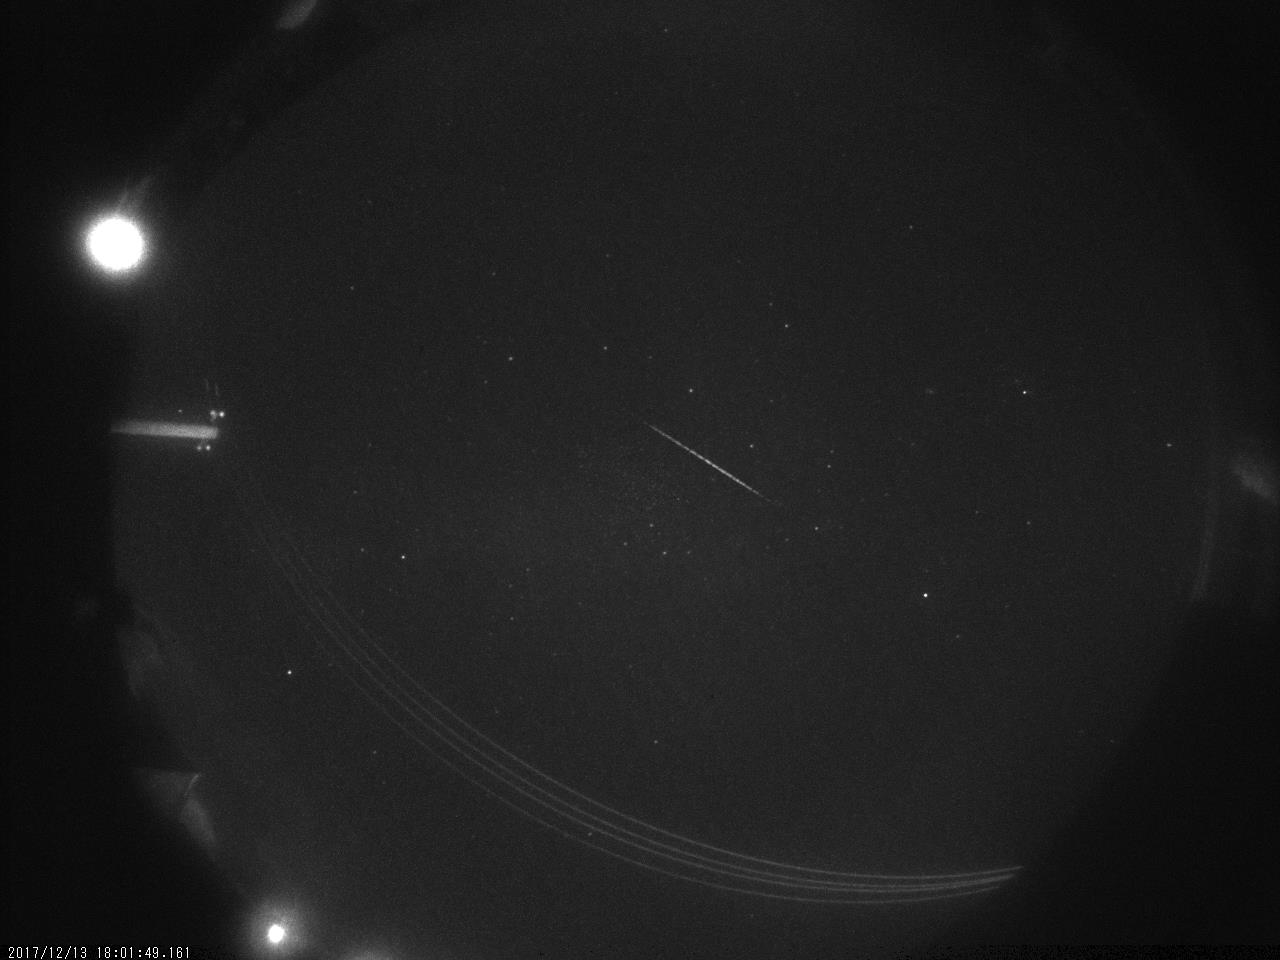meteor: (617, 408, 787, 514)
